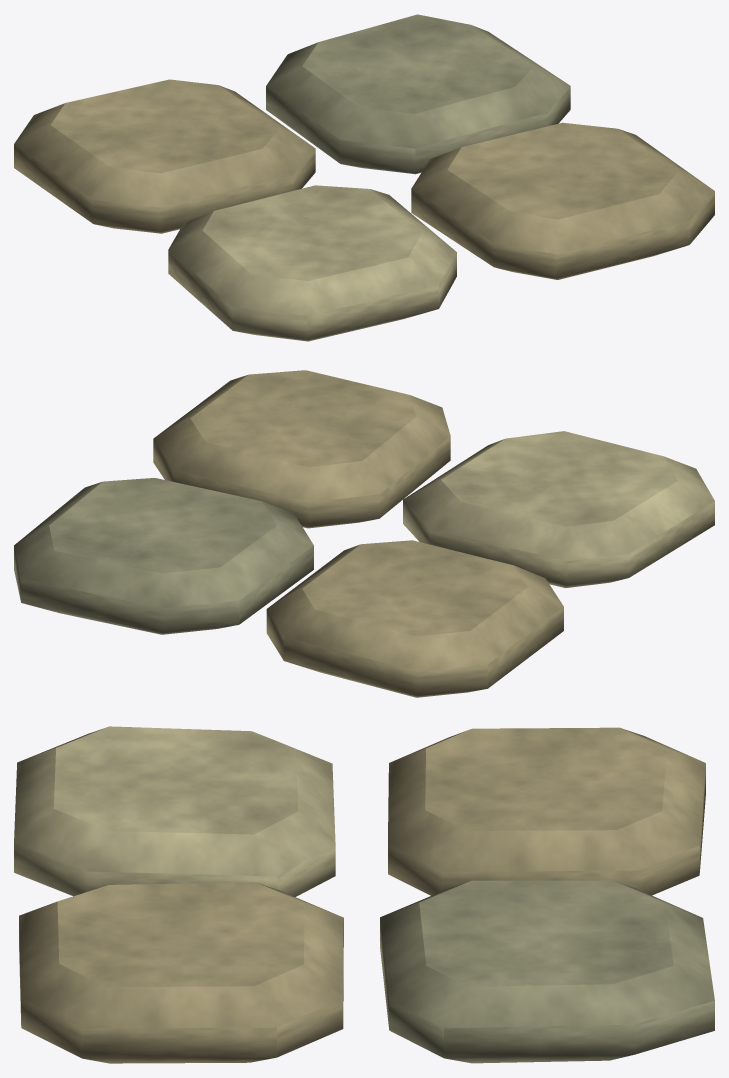
The model's file is stone-floor-3.fbx.
The picture shows the model from 3 angles, top to bottom: view 1: azimuth 30°, elevation 25°; view 2: azimuth 150°, elevation 25°; view 3: azimuth 270°, elevation 25°; orthographic projection. The views are drawn at different scales.
Parts seen in each view (by area): view 1: stone-floor-3__Geometry; view 2: stone-floor-3__Geometry; view 3: stone-floor-3__Geometry.
Boxes of the visible parts, x1,y1,x2,y2 form: stone-floor-3__Geometry: [14, 14, 714, 341]; stone-floor-3__Geometry: [14, 370, 714, 697]; stone-floor-3__Geometry: [14, 726, 714, 1063].
Size of the model in its own units: 0.9571 by 0.12 by 0.9627.
Materials: 1 (1 with a texture image).
